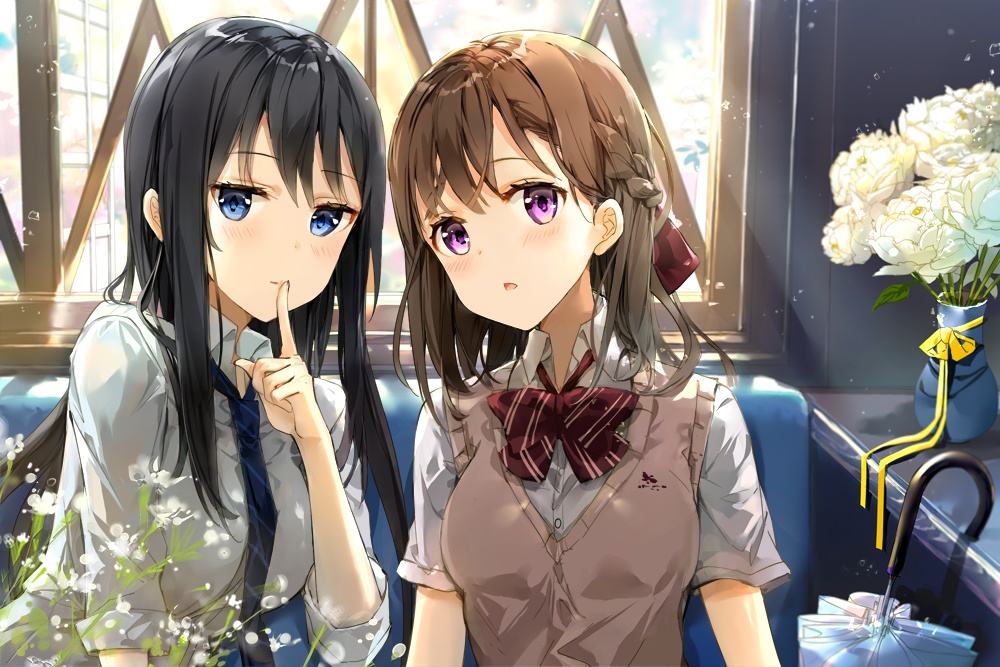纸片人正脸: (380, 28, 678, 342), (121, 13, 391, 333)
